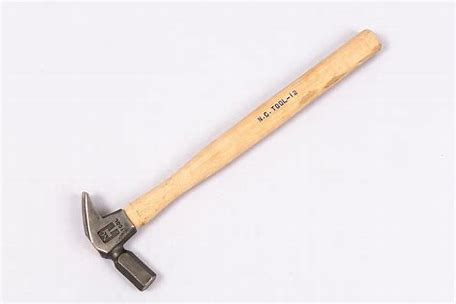martillu: (72, 14, 393, 292)
